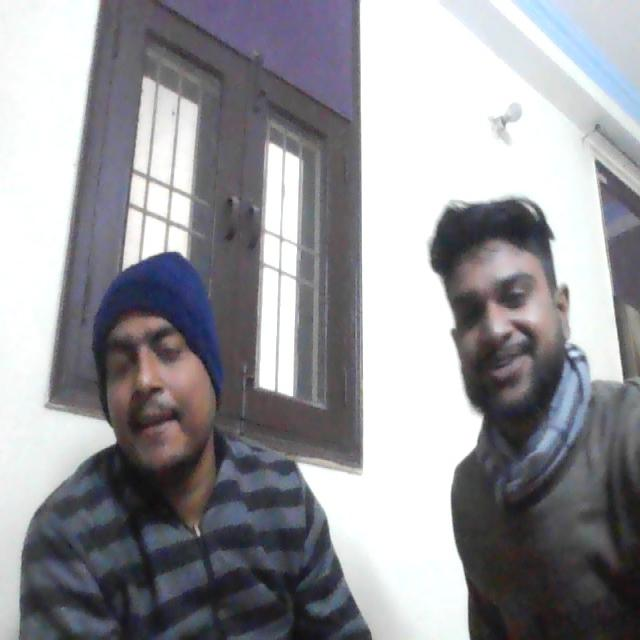real: (98, 256, 221, 489), (444, 185, 566, 416)
